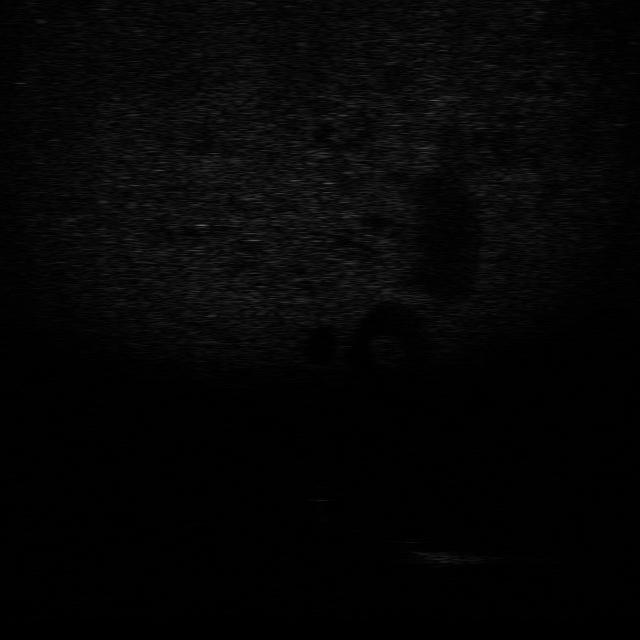ball: (296, 480, 344, 504)
metal bucket: (402, 545, 492, 571)
tyre: (355, 516, 440, 546)
